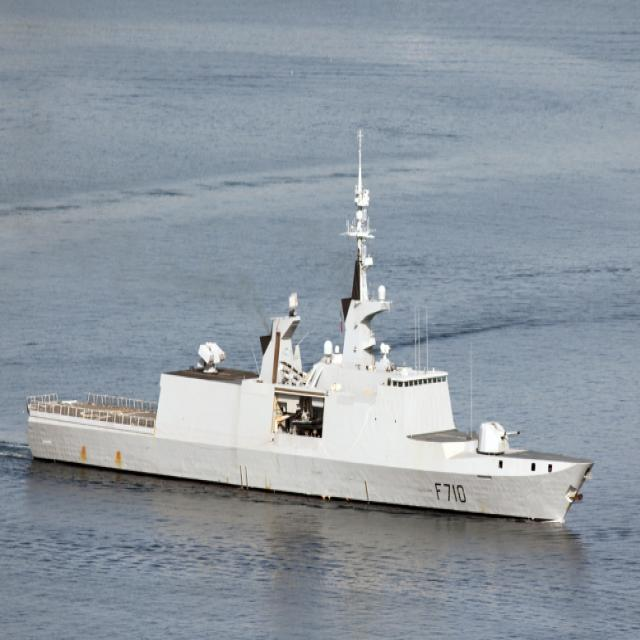Fragata: (19, 101, 605, 535)
